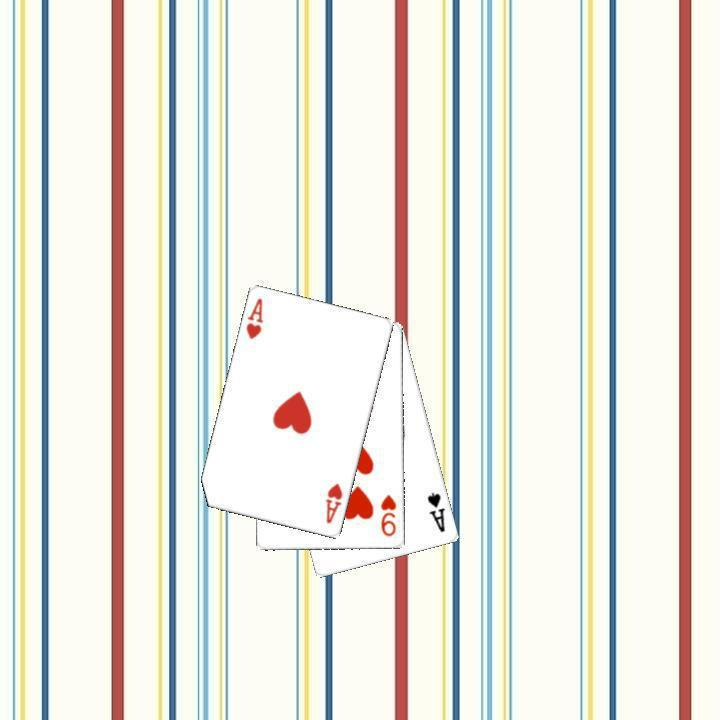9: (377, 491, 399, 539)
A: (423, 488, 447, 535), (321, 479, 345, 526), (242, 294, 266, 341)
